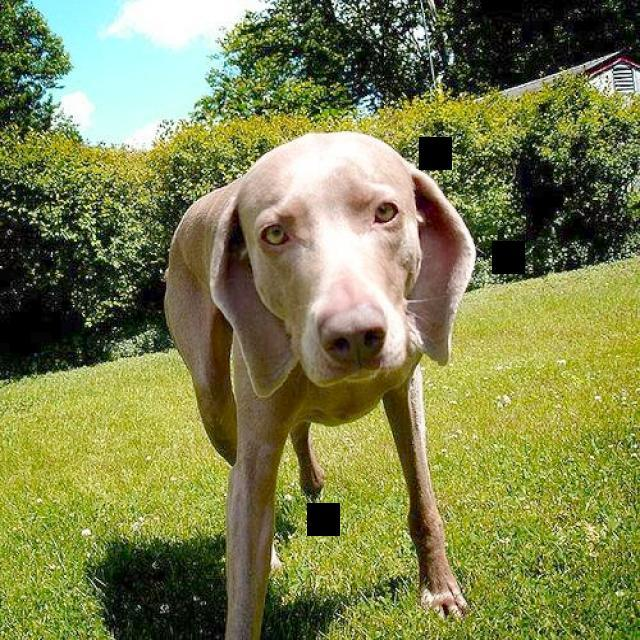adult_dog: (161, 131, 478, 640)
